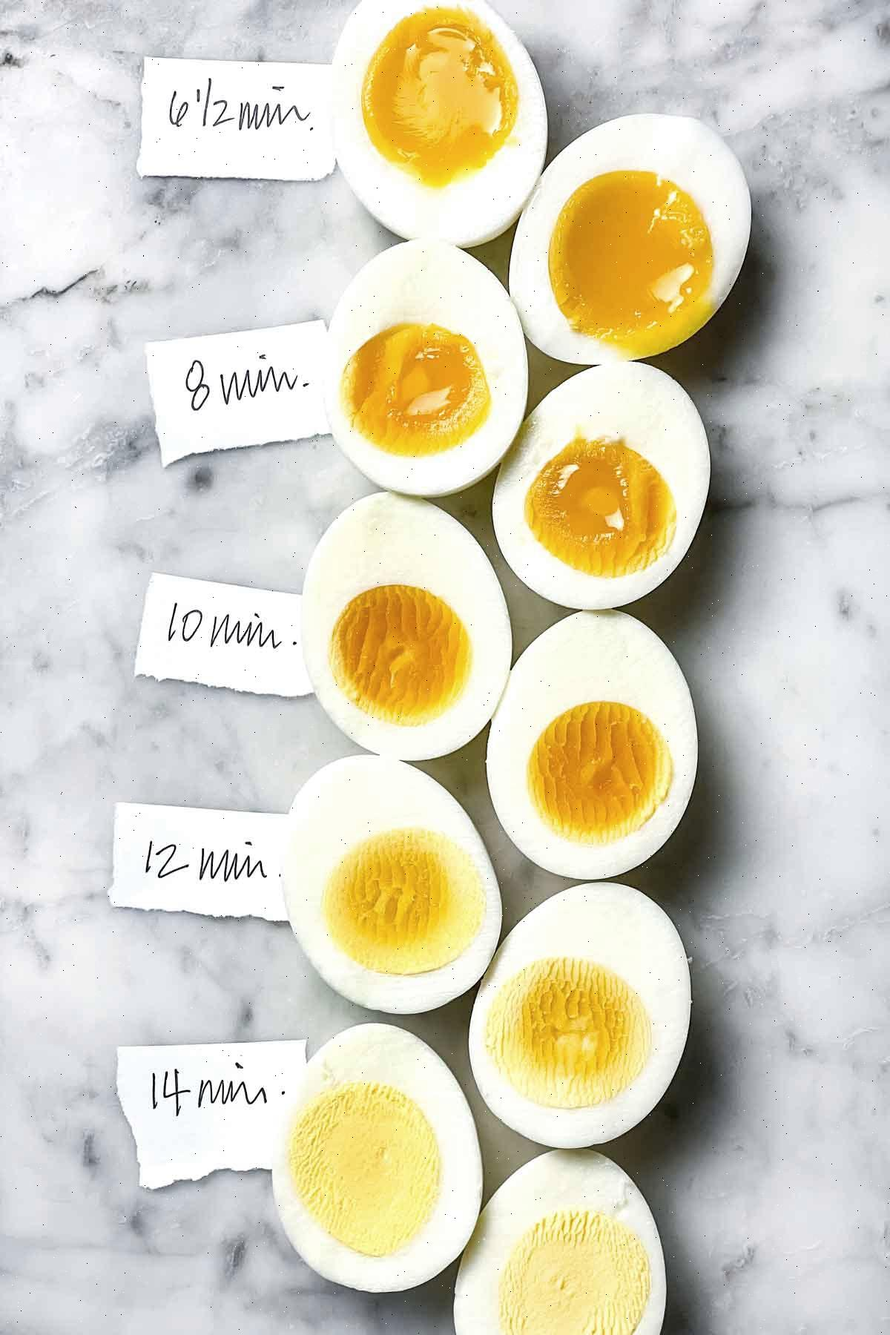eggs: (320, 23, 735, 1335)
